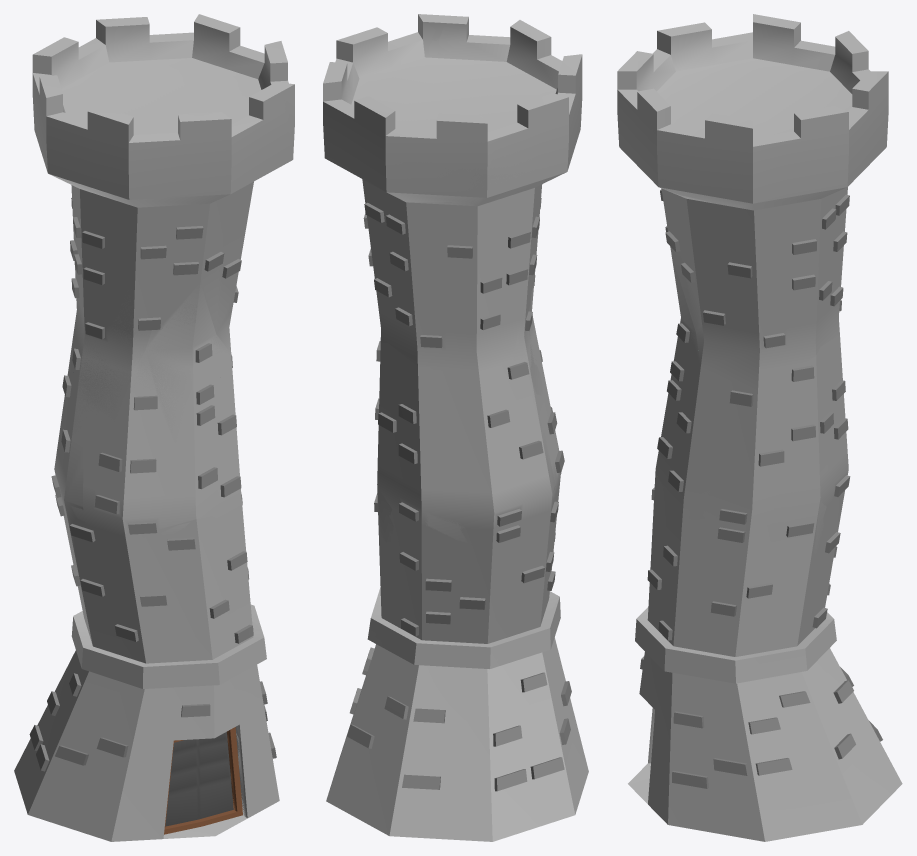
The model's file is Tower.glb.
The picture shows the model from 3 angles, left to right: view 1: azimuth 30°, elevation 25°; view 2: azimuth 150°, elevation 25°; view 3: azimuth 270°, elevation 25°; orthographic projection.
Visible parts, largest first — view 1: Cylinder.001, Cylinder.001_cell.019, Cylinder.001_cell.022, Cylinder.001_cell.021, Cylinder.001_cell.020, Cylinder.001_cell.023, Cylinder.001_cell.003, Cylinder.001_cell.014, Cylinder.001_cell.005, Cylinder.001_cell.010, Cylinder.001_cell.016, Cylinder.001_cell.002 (+4 smaller); view 2: Cylinder.001, Cylinder.001_cell.002, Cylinder.001_cell.014, Cylinder.001_cell.024, Cylinder.001_cell.016, Cylinder.001_cell.005, Cylinder.001_cell.015, Cylinder.001_cell.023, Cylinder.001_cell.001, Cylinder.001_cell.009, Cylinder.001_cell.021, Cylinder.001_cell.012 (+3 smaller); view 3: Cylinder.001, Cylinder.001_cell.001, Cylinder.001_cell.003, Cylinder.001_cell.024, Cylinder.001_cell.002, Cylinder.001_cell.009, Cylinder.001_cell.020, Cylinder.001_cell.014, Cylinder.001_cell.013, Cylinder.001_cell.019, Cylinder.001_cell.022, Cylinder.001_cell.011 (+2 smaller).
Boxes of the visible parts, x1,y1,x2,y2 form: Cylinder.001: (14,14,294,841); Cylinder.001_cell.019: (112,274,230,456); Cylinder.001_cell.022: (87,516,231,634); Cylinder.001_cell.021: (85,666,169,807); Cylinder.001_cell.020: (140,578,270,743); Cylinder.001_cell.023: (64,254,155,445); Cylinder.001_cell.003: (171,181,253,361); Cylinder.001_cell.014: (33,77,231,272); Cylinder.001_cell.005: (72,570,141,696); Cylinder.001_cell.010: (53,429,88,570); Cylinder.001_cell.016: (23,662,82,814); Cylinder.001_cell.002: (32,22,294,155); Cylinder.001: (323,14,588,841); Cylinder.001_cell.002: (323,19,494,202); Cylinder.001_cell.014: (436,23,580,229); Cylinder.001_cell.024: (375,343,464,473); Cylinder.001_cell.016: (494,679,575,822); Cylinder.001_cell.005: (455,550,558,689); Cylinder.001_cell.015: (394,541,488,666); Cylinder.001_cell.023: (497,254,544,441); Cylinder.001_cell.001: (348,587,411,730); Cylinder.001_cell.009: (379,546,410,648); Cylinder.001_cell.021: (547,598,580,754); Cylinder.001_cell.012: (388,502,468,551); Cylinder.001: (617,14,902,841); Cylinder.001_cell.001: (684,590,828,815); Cylinder.001_cell.003: (665,198,827,400); Cylinder.001_cell.024: (751,334,848,475); Cylinder.001_cell.002: (649,61,888,212); Cylinder.001_cell.009: (743,561,826,640); Cylinder.001_cell.020: (635,567,703,762); Cylinder.001_cell.014: (617,23,800,197); Cylinder.001_cell.013: (663,464,767,590); Cylinder.001_cell.019: (667,253,700,400); Cylinder.001_cell.022: (651,474,670,562); Cylinder.001_cell.011: (759,501,824,564).
Bounding box in the file's own units: 4.76 × 13.21 × 4.75.
1 material, 1 textured.
